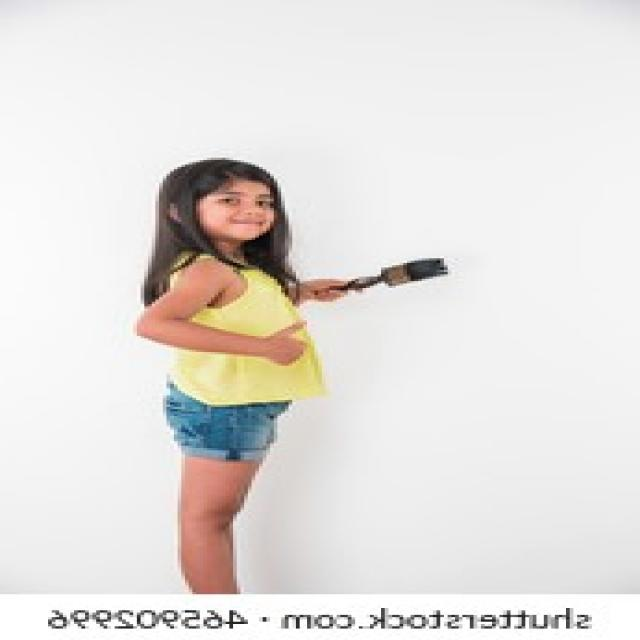child: (130, 148, 455, 599)
